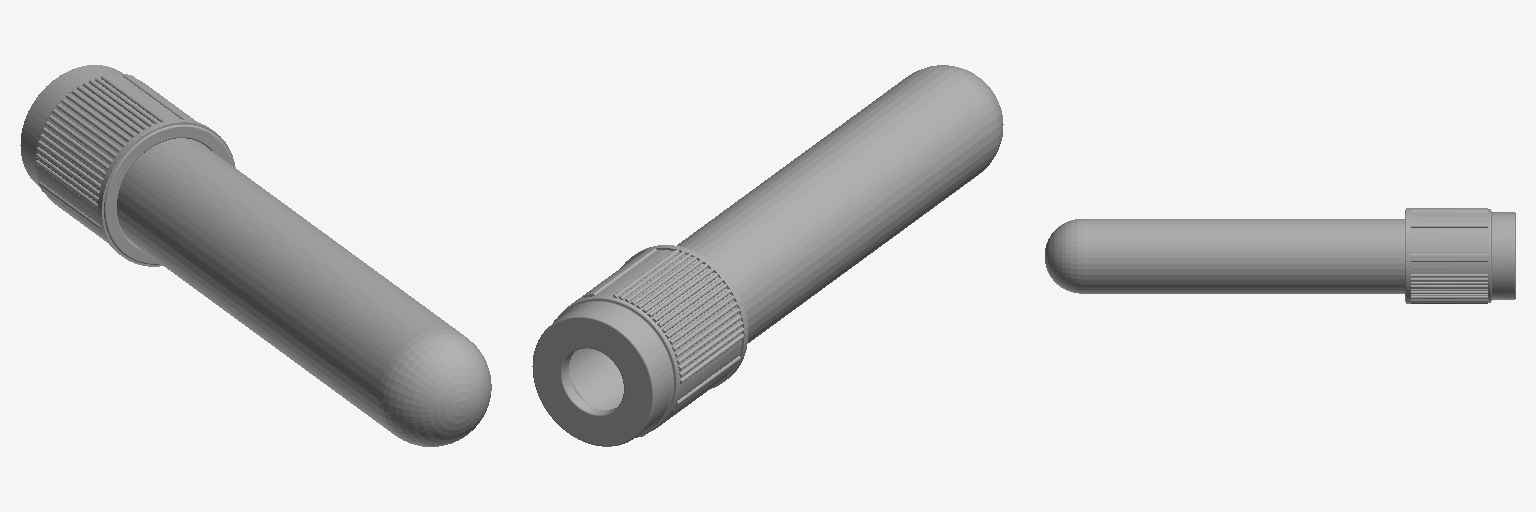
URDF robot description (test_tube75):
<?xml version="1.0"?>
<robot name="test_tube75">

  <!-- Link: Test tube -->
  <link name="test_tube_link">
    <visual>
      <origin xyz="0 0 0" rpy="0 0 0"/>
      <geometry>
        <mesh filename="package://ur5_robot_gripper/meshes/tube75/visual/tube75.dae" scale="1 1 1"/>
      </geometry>
      <material name="gray">
        <color rgba="0.7 0.7 0.7 1.0"/>
      </material>
    </visual>
    <collision>
      <origin xyz="0 0 0" rpy="0 0 0"/>
      <geometry>
        <mesh filename="package://ur5_robot_gripper/meshes/tube75/collision/tube75.stl" scale="1 1 1"/>
      </geometry>
    </collision>
    <inertial>
      <origin xyz="0 0 0" rpy="0 0 0"/>
      <mass value="0.1"/>
      <inertia ixx="0.01" ixy="0.0" ixz="0.0" iyy="0.01" iyz="0.0" izz="0.01"/>
    </inertial>
  </link>

</robot>

--- What the picture shows (computed from the rendered views, not written in the file) ---
The picture shows the robot from 3 angles, left to right: view 1: azimuth 30°, elevation 25°; view 2: azimuth 150°, elevation 25°; view 3: azimuth 270°, elevation 25°; orthographic projection.
Robot: test_tube75 — 1 links, 0 joints (none); root link test_tube_link; default pose: every joint at zero.
Links seen in each view (by area): view 1: test_tube_link; view 2: test_tube_link; view 3: test_tube_link.
Link boxes in pixels (x1,y1,x2,y2): test_tube_link: [20, 65, 491, 446]; test_tube_link: [532, 65, 1003, 446]; test_tube_link: [1045, 208, 1515, 303].
Bounding box of the posed robot: 0.016 × 0.0783 × 0.016 m (x, y, z).
Meshes: 1 distinct files referenced, 1 mesh visuals loaded (1 Collada DAE).